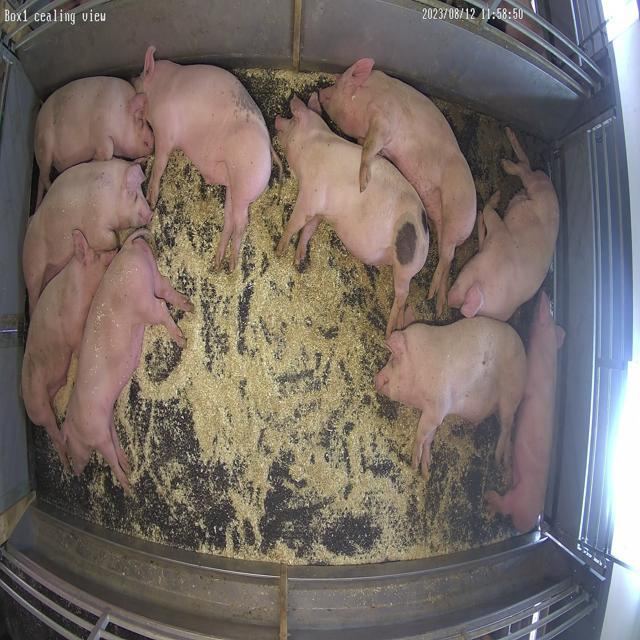Dirt: (438, 99, 523, 214), (519, 130, 548, 170)
Pig: (316, 58, 477, 316), (276, 96, 430, 336), (135, 46, 273, 270), (22, 159, 152, 310), (34, 76, 154, 206)
